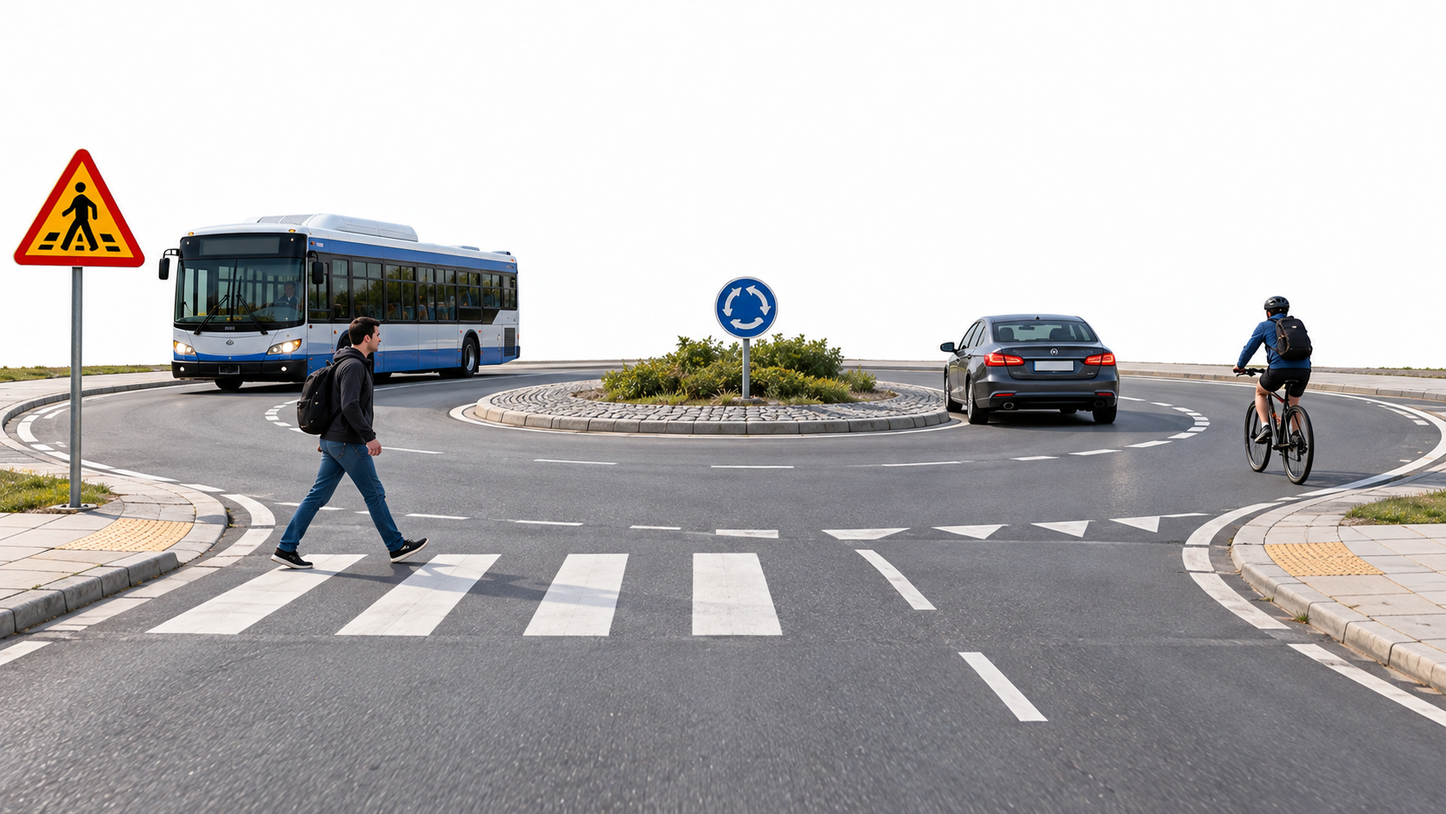bicycle: (1232, 355, 1321, 483)
bus: (158, 215, 521, 381)
car: (940, 315, 1122, 428)
crossing_warning_sign: (14, 148, 145, 269)
person: (268, 317, 431, 572), (1234, 296, 1315, 448), (270, 275, 306, 324)
zebra_crossing: (168, 523, 1232, 638)
